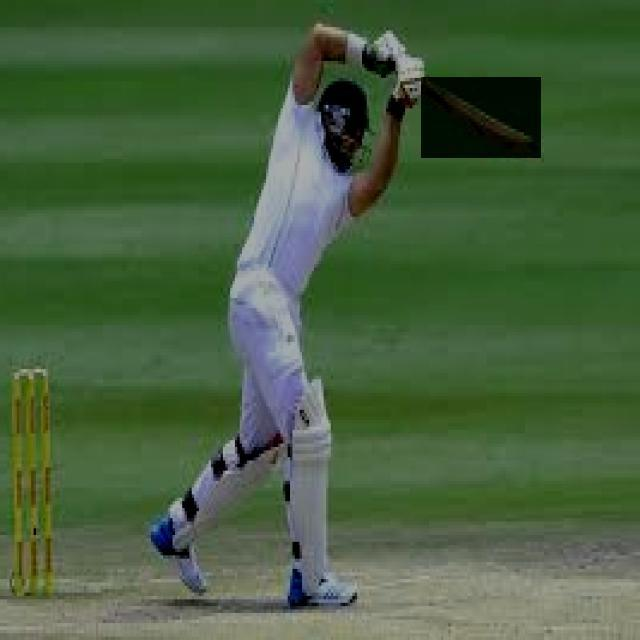bat: (424, 74, 541, 161)
toe: (525, 138, 542, 157)
